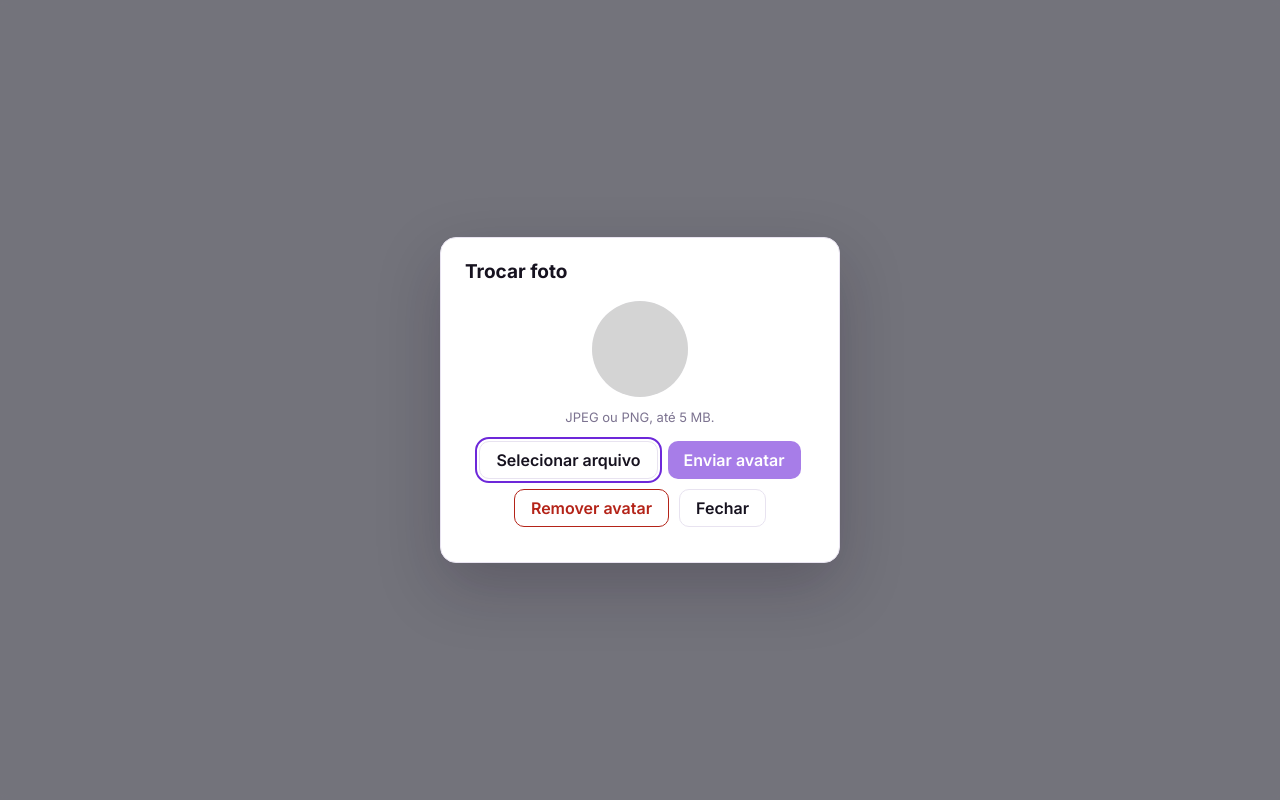
AvatarDialog › keeps the persisted avatar visible on a network error during removal, allowing retry
The width and height of the screenshot is (1280, 800).
Click the button "Remover avatar". click: (591, 508)
box: [514,489,669,527]
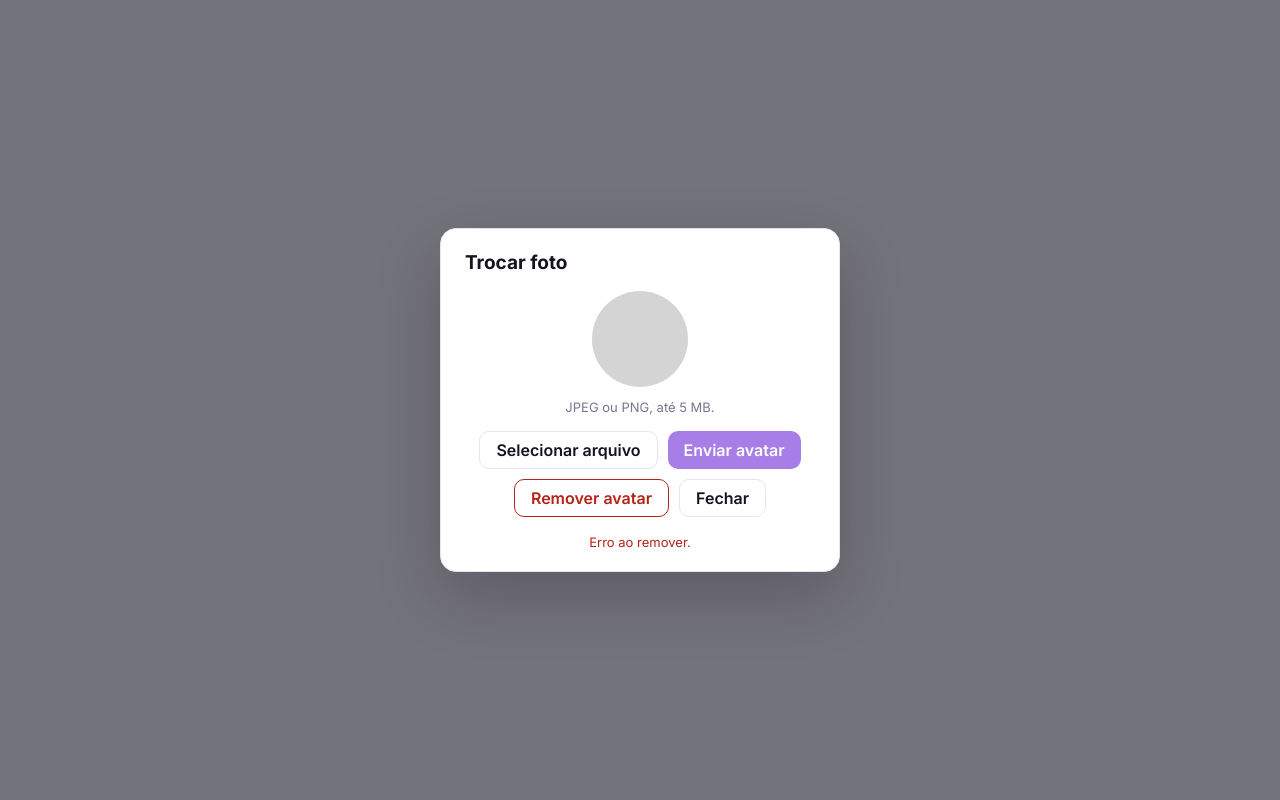
Expected: the text "Erro ao remover." is shown, [589,534,691,550]
